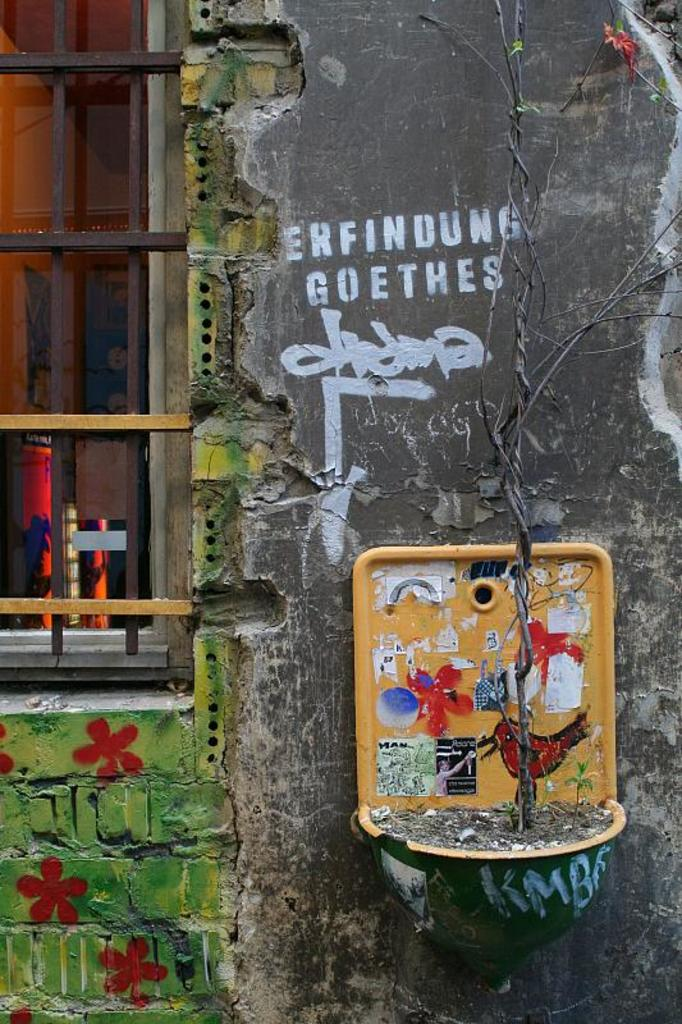Window: (0, 0, 203, 691)
